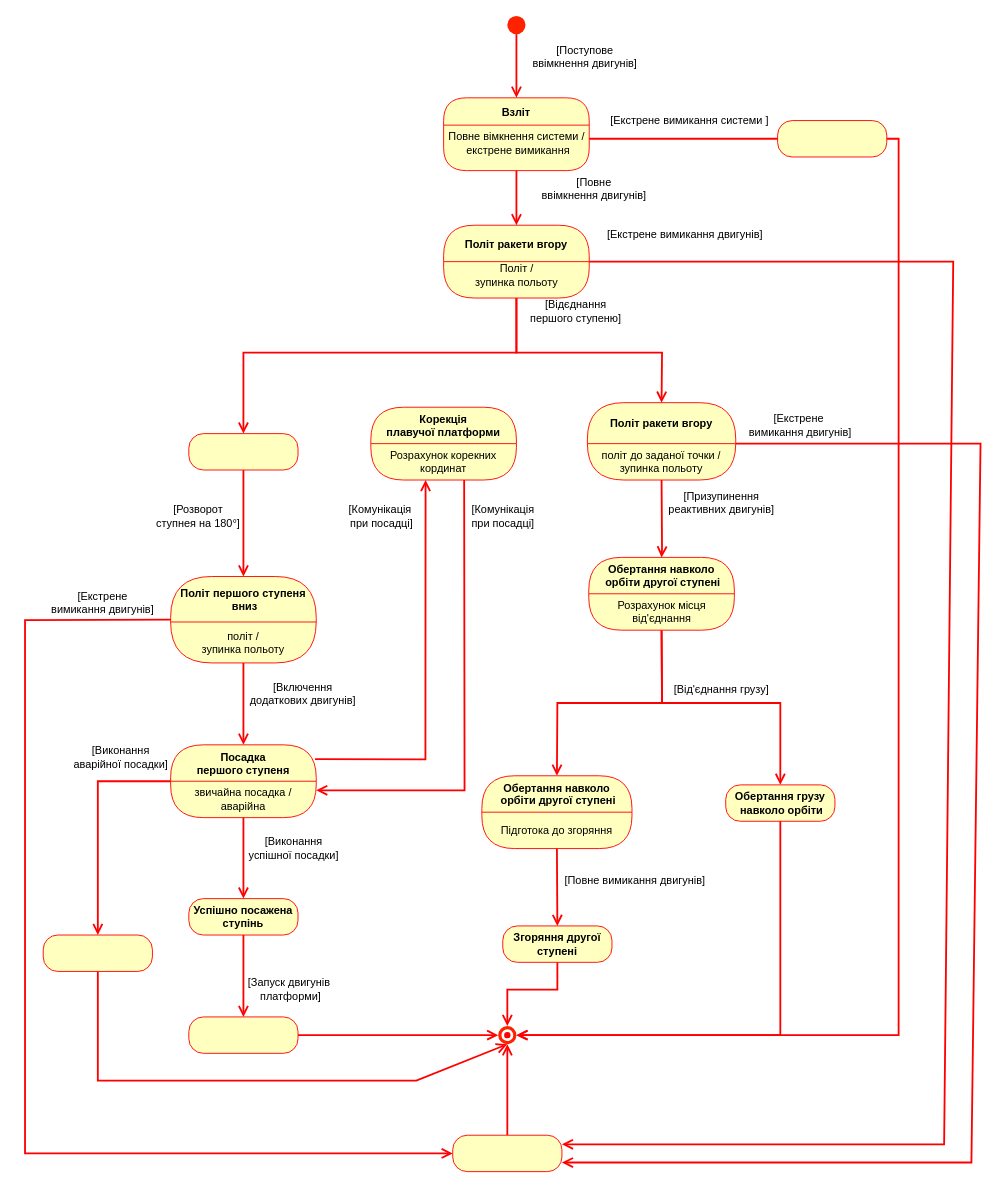
Some shapes in this 1006 by 1188 pixel diagram are drawn without their labels. Each missing label, with the centre of its shape:
"Аварійно посажена перша ступінь" belongs at [97,952].
"Вимкнена систмема" belongs at [832,138].
"Згоряння об'єкту" belongs at [507,1153].
"Напівлеветація першого ступеня" belongs at [243,451].
"Повернення платформи назад" belongs at [243,1034].
